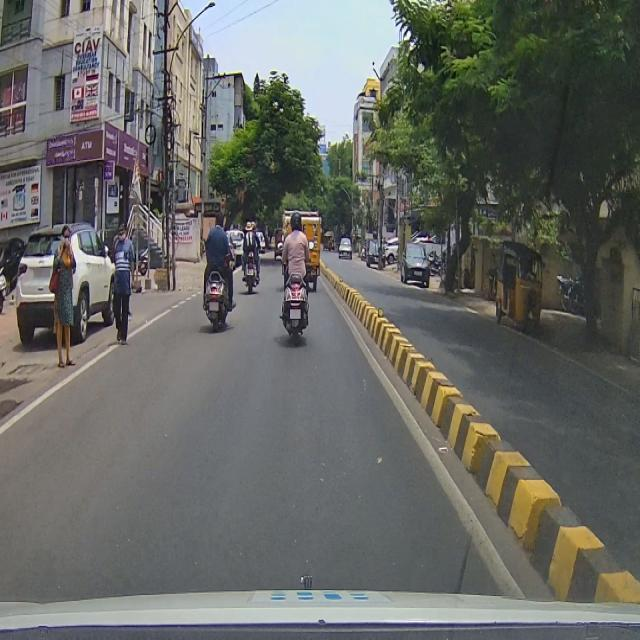car ahead at: (15, 221, 126, 364)
motorcycle ahead at: (200, 265, 238, 332), (283, 265, 312, 344)
person ahead at: (49, 224, 85, 382), (107, 219, 139, 361)
